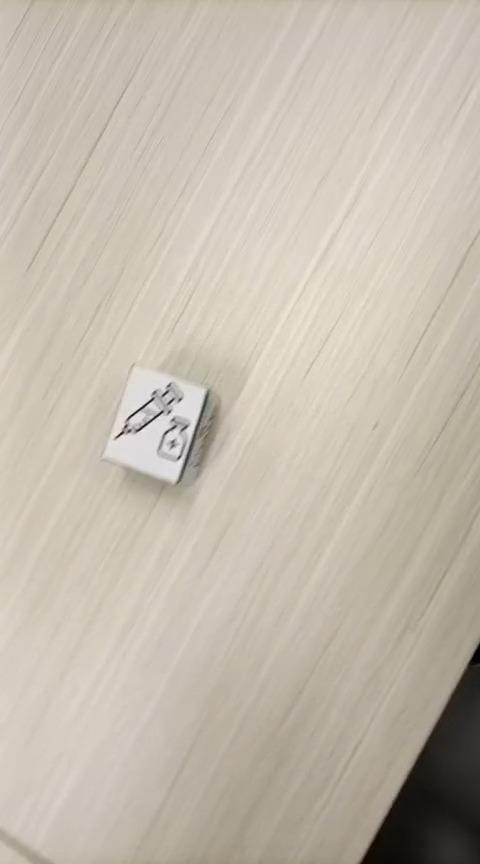antiseptic cream: (99, 361, 216, 488)
